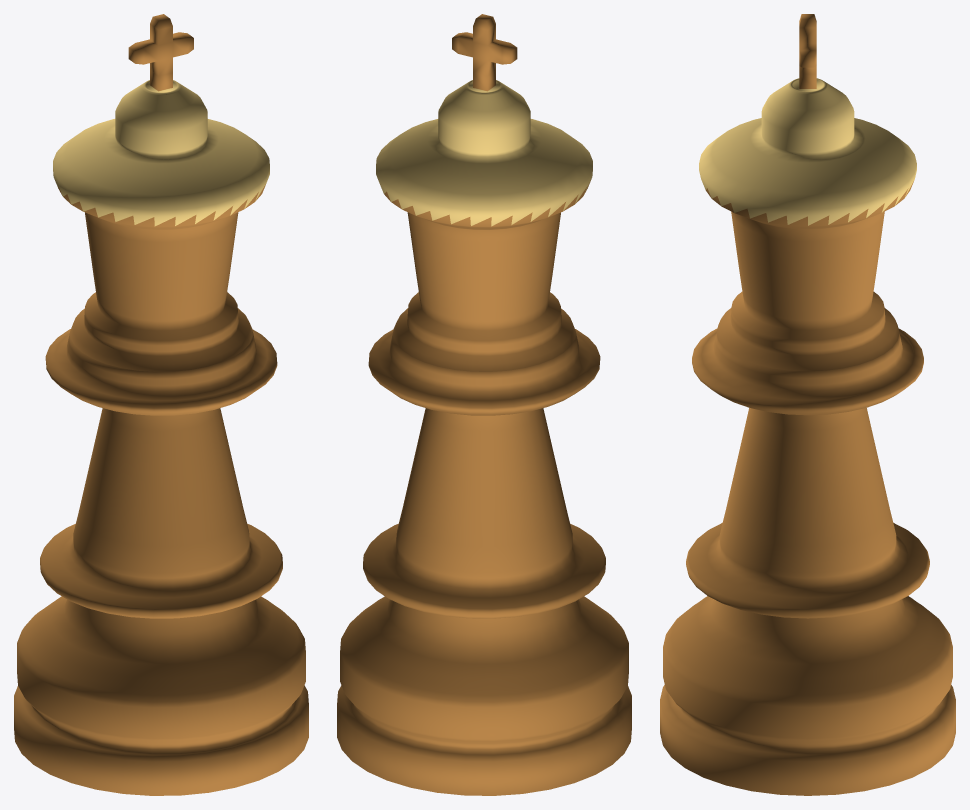
Rendered from gercek3_k_w.glb.
3 views of the same model, side by side, from view 1: azimuth 30°, elevation 25°; view 2: azimuth 150°, elevation 25°; view 3: azimuth 270°, elevation 25° (orthographic).
Visible parts, largest first — view 1: k_0, k_1; view 2: k_0, k_1; view 3: k_0, k_1.
Boxes of the visible parts, left/top/right/bottom form: k_0: left=14, top=80, right=308, bottom=795; k_1: left=128, top=14, right=193, bottom=91; k_0: left=337, top=80, right=631, bottom=795; k_1: left=452, top=14, right=517, bottom=91; k_0: left=660, top=78, right=955, bottom=795; k_1: left=799, top=14, right=816, bottom=88.
Bounding box in the file's own units: 0.3366 × 0.9 × 0.3366.
